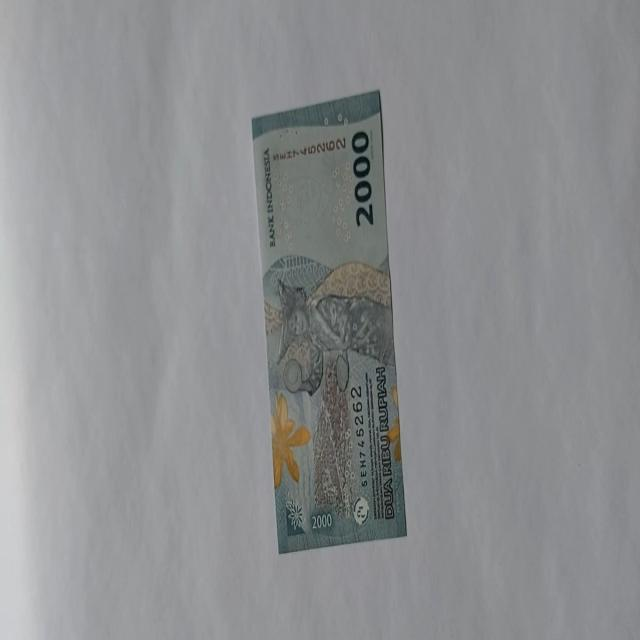dua ribu rupiah: (250, 89, 407, 553)
